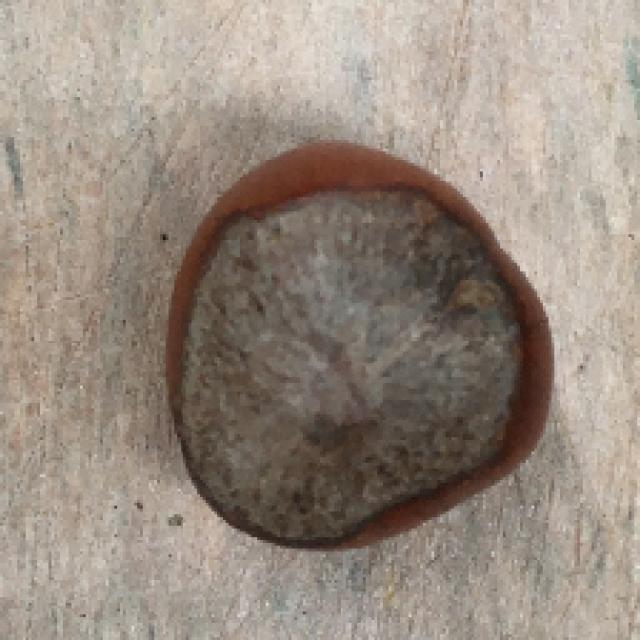qualityHazelnut: (156, 132, 557, 552)
